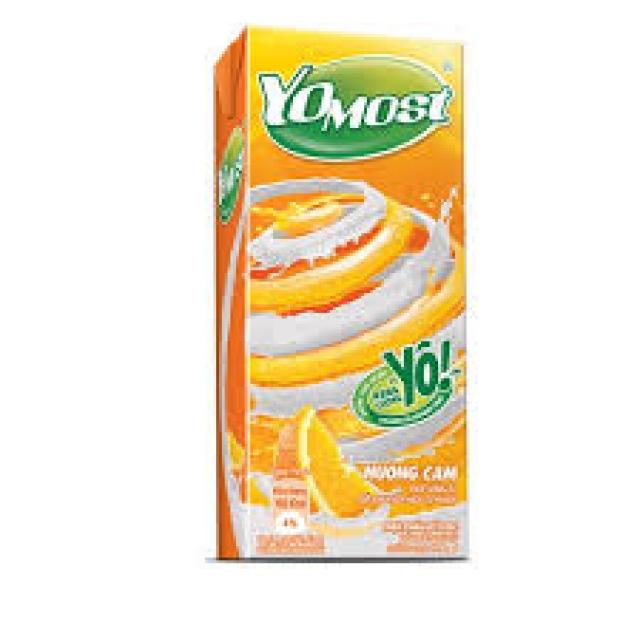non_white_jug: (196, 10, 478, 567)
